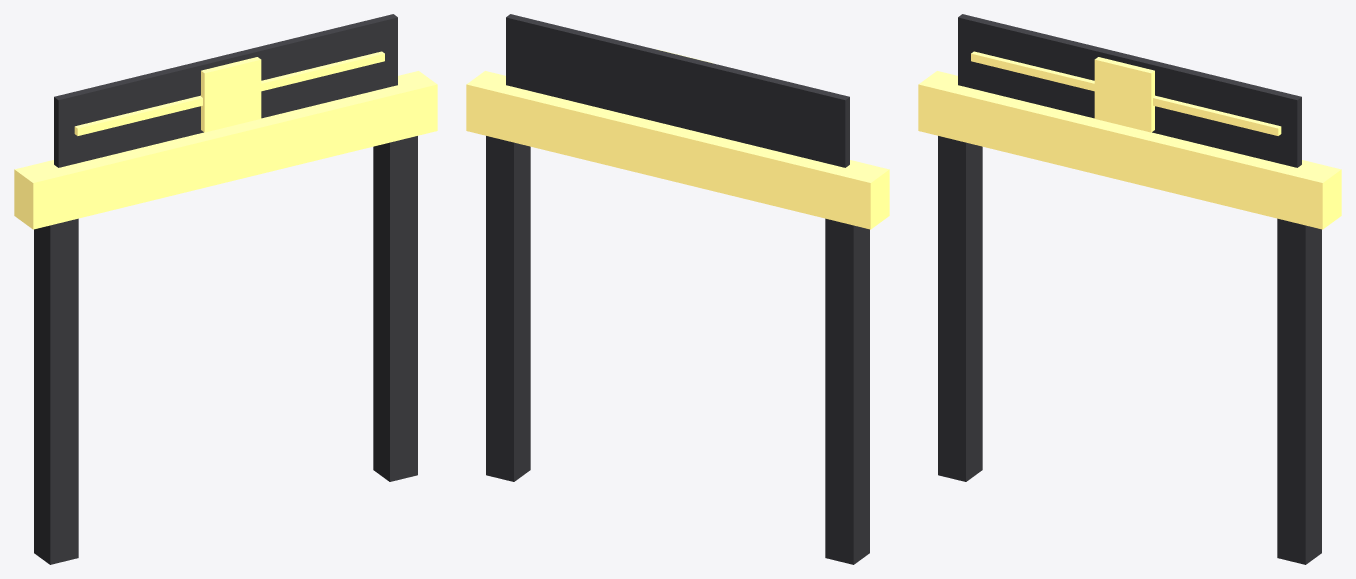
The model's file is jeffrey_arch_v2.glb.
3 views of the same model, side by side, from view 1: azimuth 30°, elevation 25°; view 2: azimuth 150°, elevation 25°; view 3: azimuth 330°, elevation 25° (orthographic).
Visible parts, largest first — view 1: Beam, Sign, PostL, PostR, Island, GoldBar; view 2: Sign, Beam, PostL, PostR; view 3: Beam, Sign, PostR, PostL, Island, GoldBar.
Part boxes in pixels (left/top/right/bottom): Beam: left=14, top=71, right=437, bottom=229; Sign: left=54, top=14, right=397, bottom=167; PostL: left=34, top=218, right=78, bottom=564; PostR: left=373, top=136, right=417, bottom=481; Island: left=201, top=57, right=261, bottom=132; GoldBar: left=74, top=51, right=384, bottom=135; Sign: left=506, top=14, right=849, bottom=167; Beam: left=466, top=71, right=889, bottom=229; PostL: left=825, top=218, right=869, bottom=564; PostR: left=486, top=136, right=530, bottom=481; Beam: left=918, top=71, right=1341, bottom=229; Sign: left=958, top=14, right=1301, bottom=167; PostR: left=1277, top=218, right=1321, bottom=564; PostL: left=938, top=136, right=982, bottom=481; Island: left=1094, top=57, right=1154, bottom=132; GoldBar: left=971, top=51, right=1281, bottom=135.
Bounding box in the file's own units: 10 × 10.8 × 0.8.
